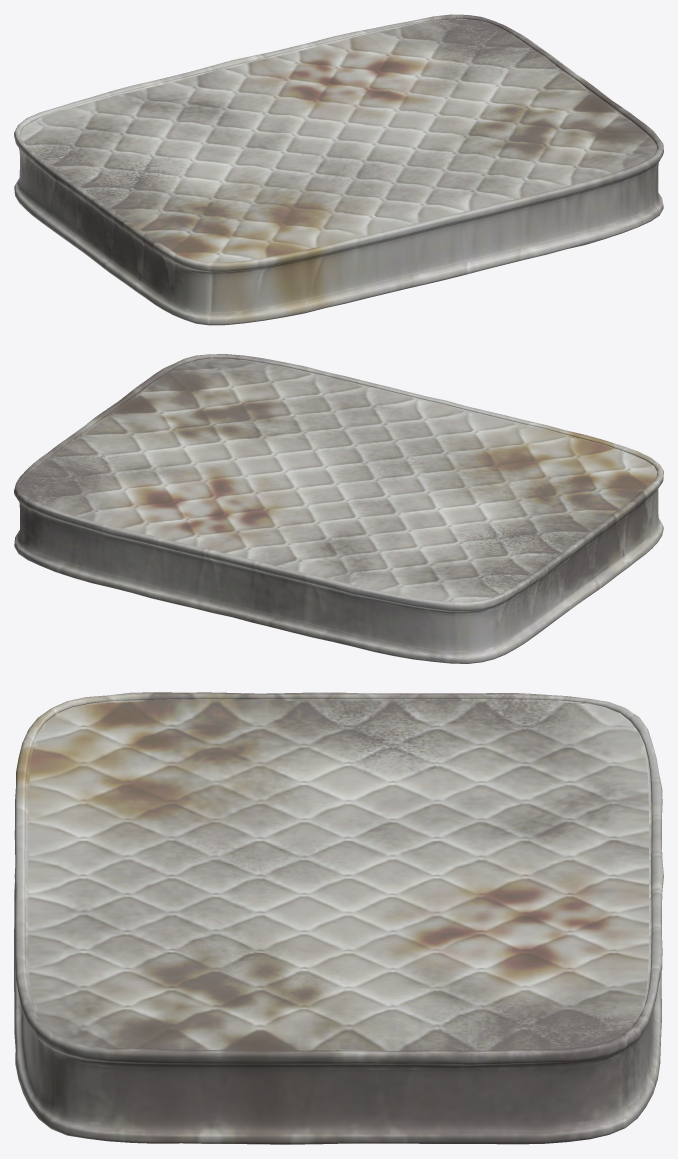
The model's file is Mattress1.fbx.
3 renders of one model, top to bottom at view 1: azimuth 30°, elevation 25°; view 2: azimuth 150°, elevation 25°; view 3: azimuth 270°, elevation 25°, orthographic. The views are drawn at different scales.
Visible parts, largest first — view 1: Mattress1; view 2: Mattress1; view 3: Mattress1.
Part boxes in pixels (box(x1,y1,x2,y2)): Mattress1: box(14, 14, 663, 325); Mattress1: box(14, 354, 663, 663); Mattress1: box(14, 692, 663, 1144).
Bounding box in the file's own units: 670 × 81.81 × 508.
